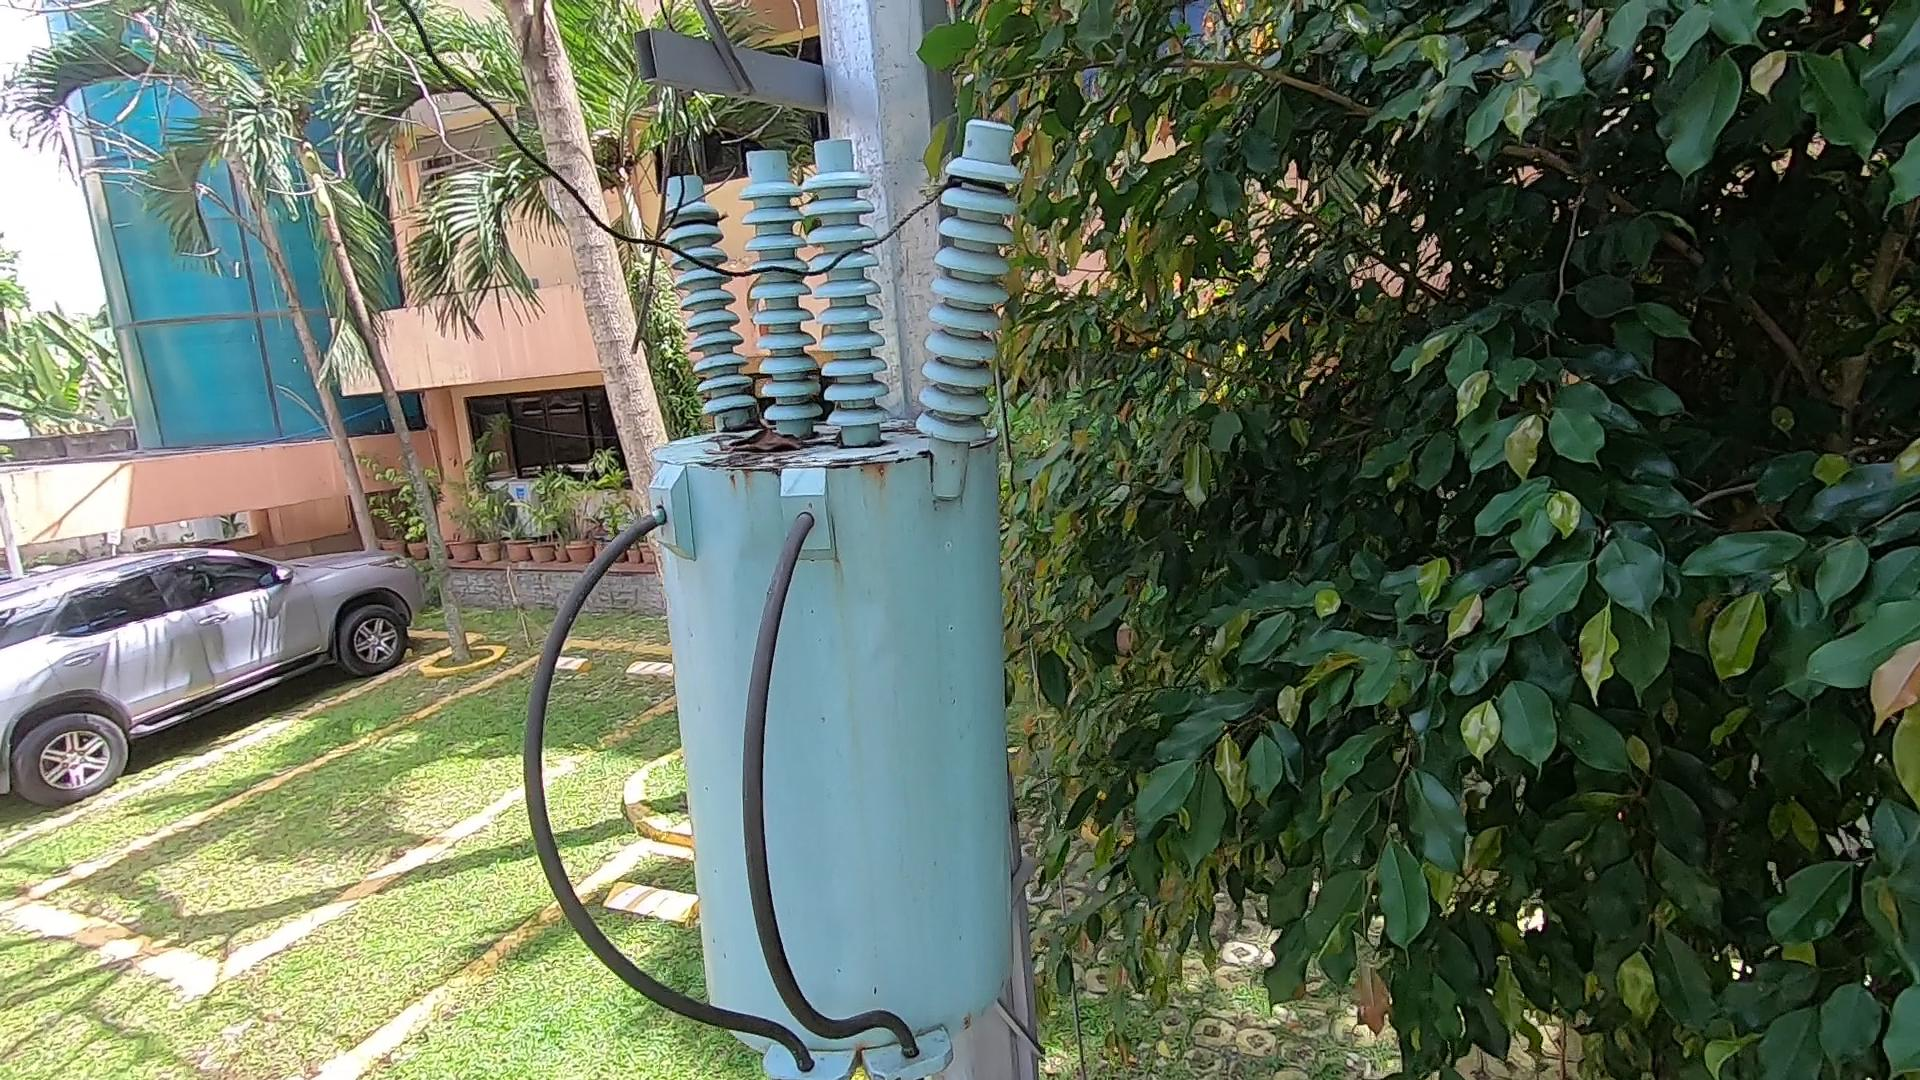leaf: (717, 407, 810, 462)
tree branch: (604, 12, 740, 352)
